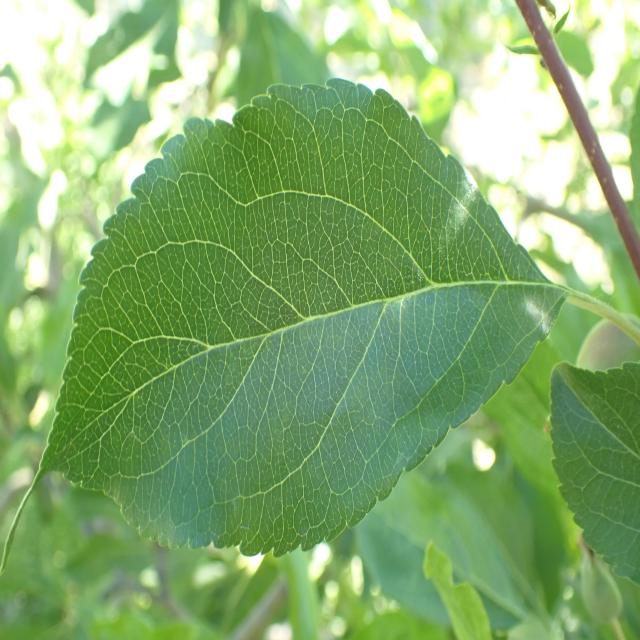healthy: (39, 78, 566, 558), (545, 359, 640, 586)
